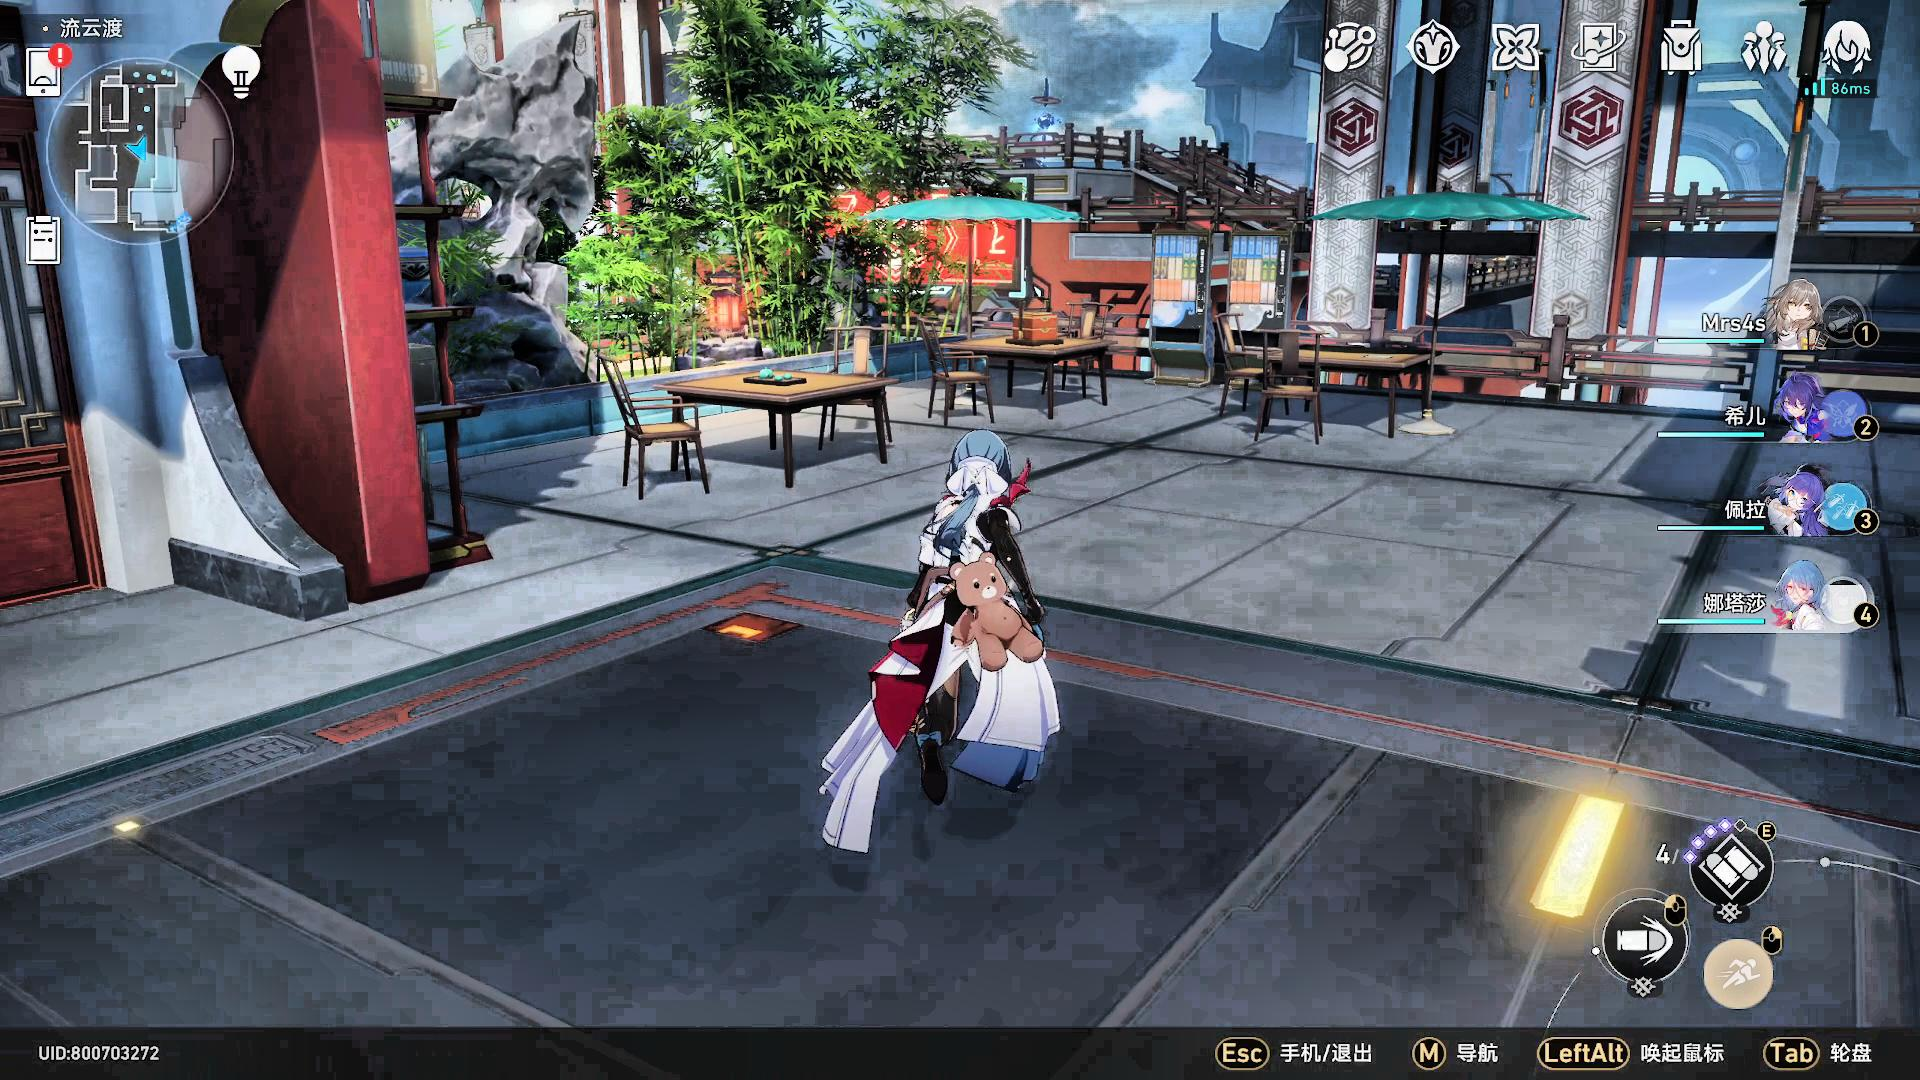Self: (822, 429, 1063, 858)
